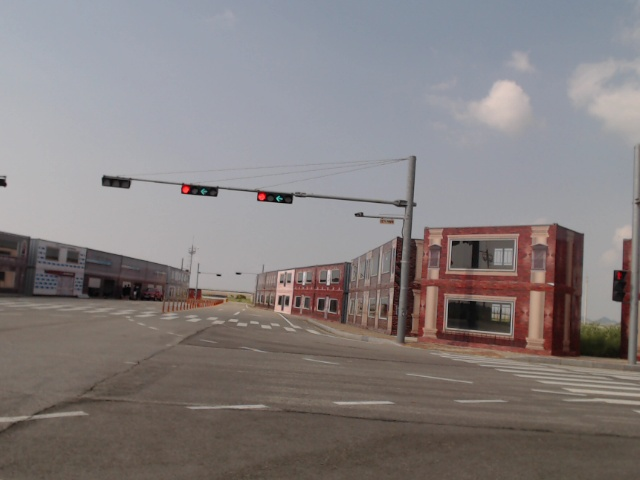left_green_4: (182, 184, 217, 197), (257, 192, 292, 204)
